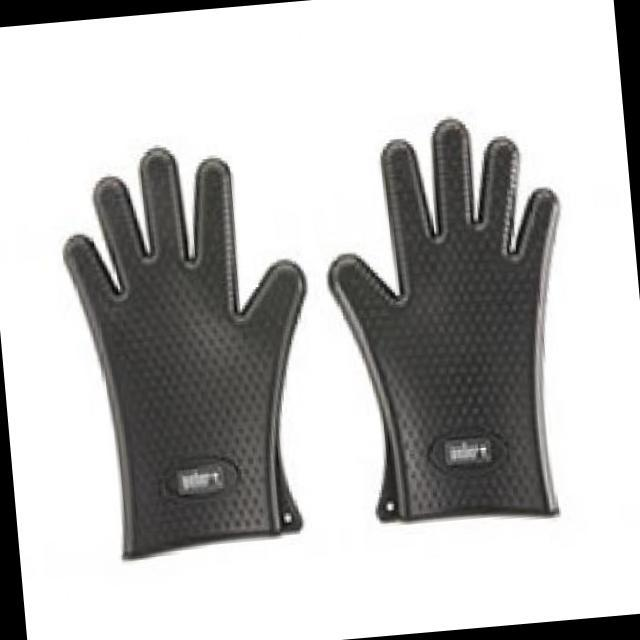glove: (62, 154, 298, 559), (326, 124, 558, 521)
